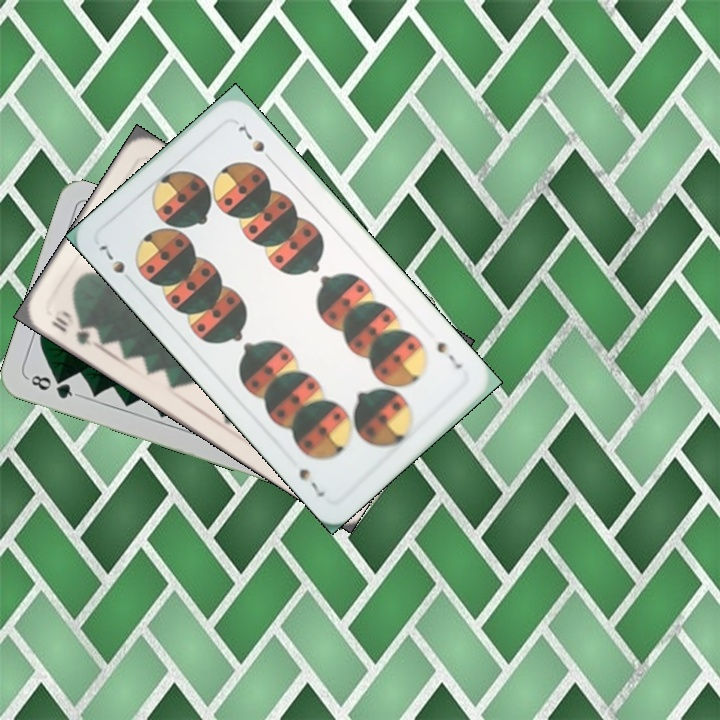G10: (47, 307, 95, 349)
G8: (24, 371, 81, 402)
S7: (94, 240, 128, 277), (432, 337, 465, 372)
